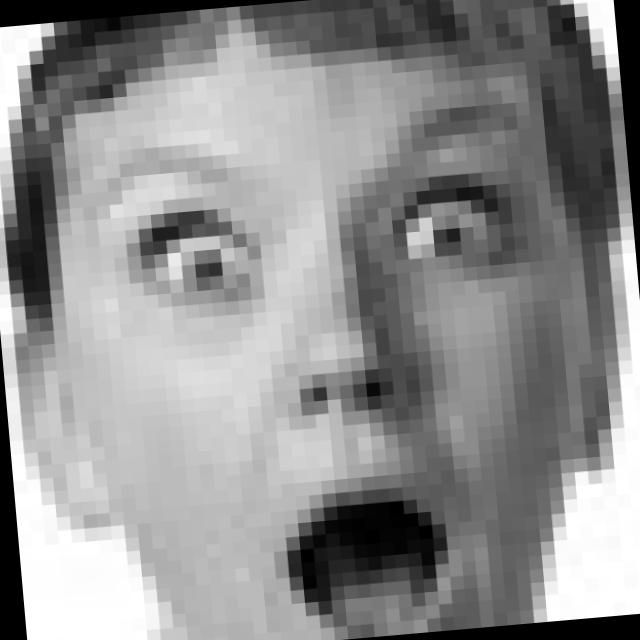surprise: (74, 95, 565, 640)
